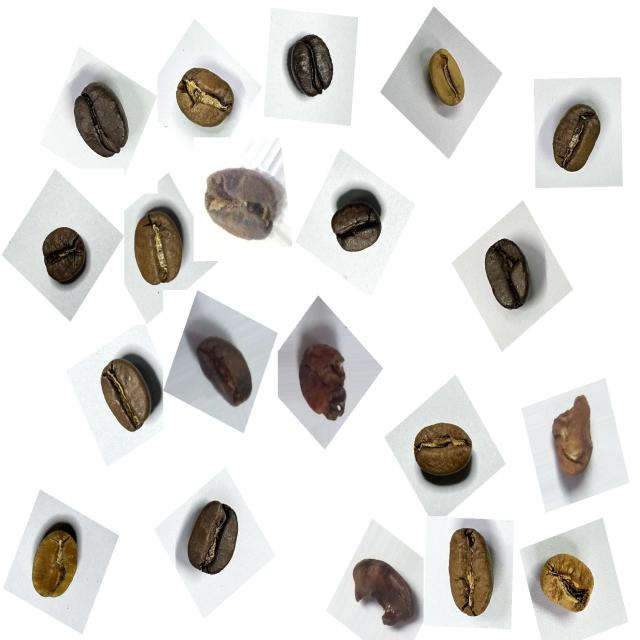bad: (196, 162, 281, 254), (288, 328, 361, 430), (343, 546, 420, 638), (539, 388, 605, 490), (188, 325, 261, 417)
dark: (177, 491, 253, 590), (62, 73, 139, 168), (475, 231, 542, 321), (324, 182, 393, 266), (280, 25, 346, 109), (33, 215, 97, 294)
light: (23, 515, 94, 615), (532, 542, 608, 629), (417, 40, 475, 118)
medium: (430, 519, 508, 633), (88, 347, 164, 445), (538, 92, 612, 188), (123, 201, 195, 299), (404, 411, 484, 494), (167, 60, 243, 142)
